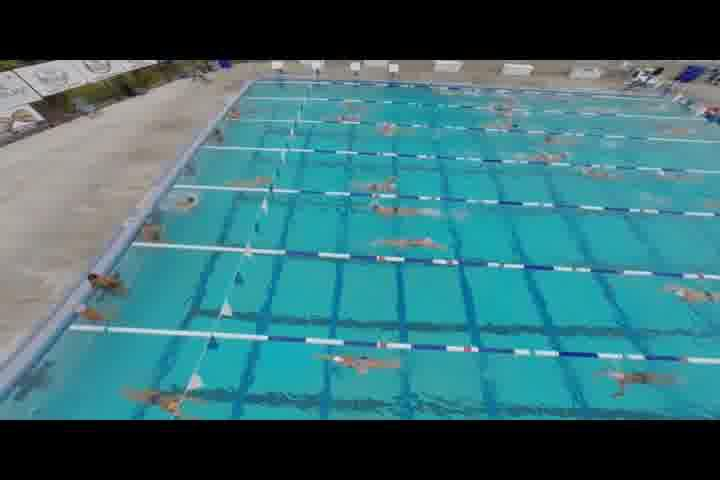human: (320, 353, 398, 376)
